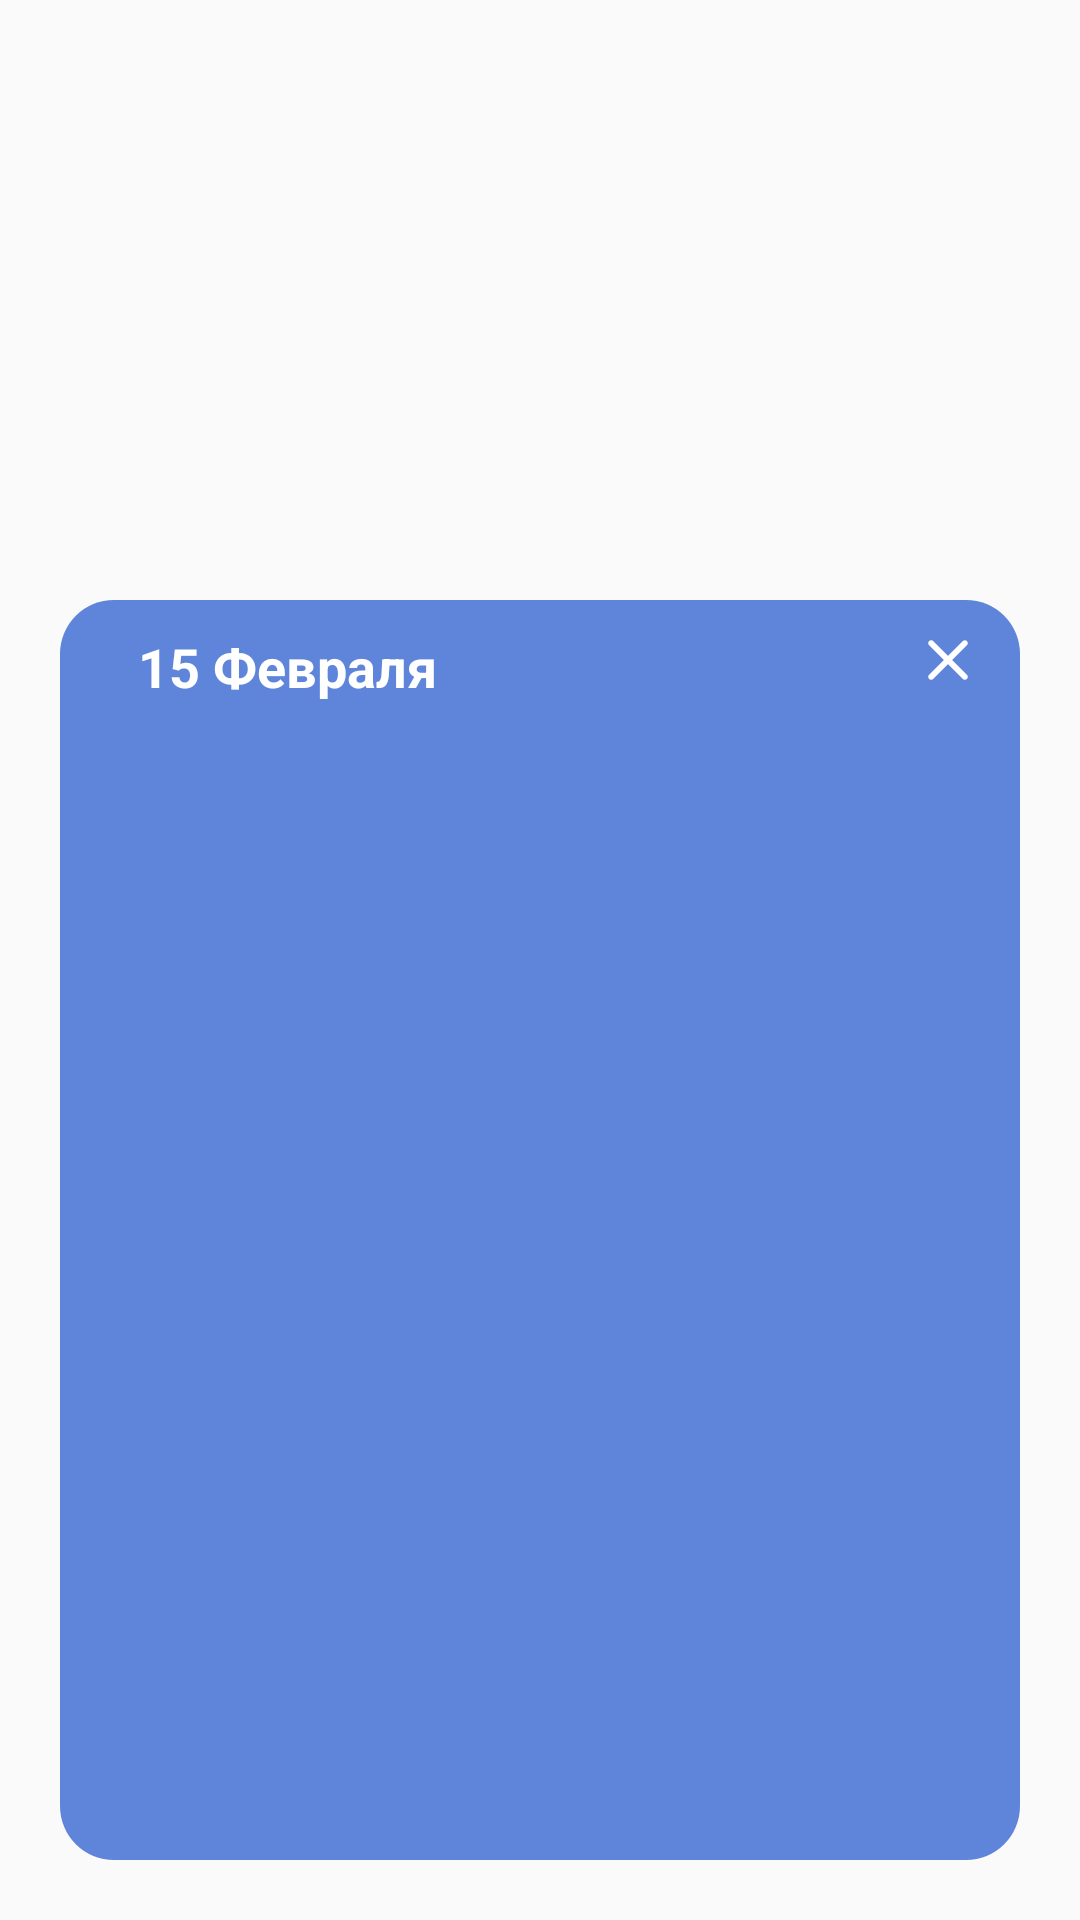

Screen size 1080px x 1920px. Icon name, then its box in pixels as (x1, y1, x2, y2):
close cross: (928, 640, 968, 680)
